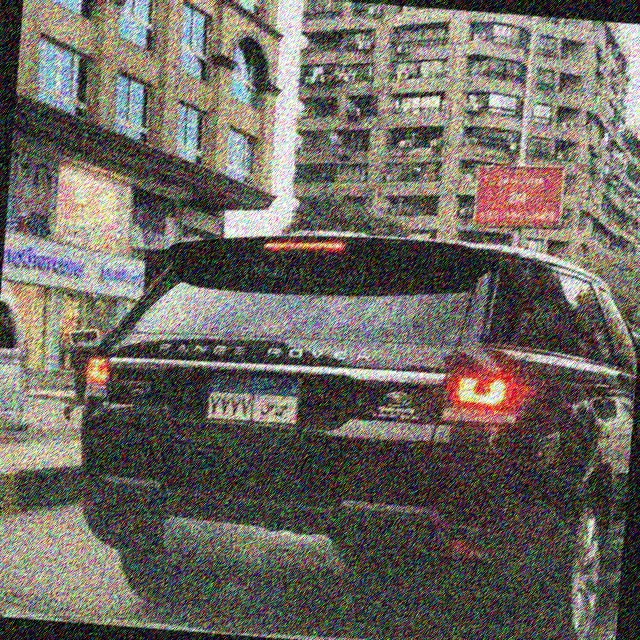License Plate: (202, 369, 303, 428)
